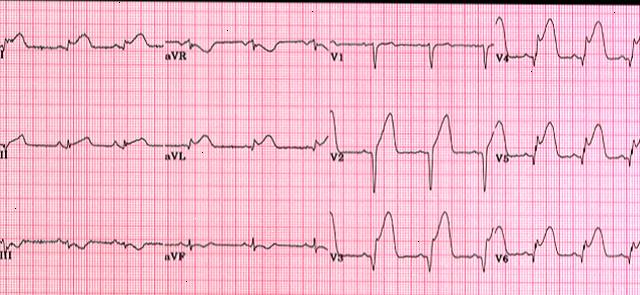Lead_I: (0, 22, 166, 69)
Lead_II: (0, 121, 165, 172)
Lead_III: (1, 226, 166, 266)
Lead_V1: (329, 28, 496, 77)
Lead_V2: (326, 102, 494, 195)
Lead_V3: (326, 198, 494, 282)
Lead_V4: (493, 8, 640, 76)
Lead_V5: (494, 108, 640, 181)
Lead_V6: (491, 211, 640, 283)
Lead_aVF: (165, 227, 330, 270)
Lead_aVL: (162, 122, 328, 168)
Lead_aVR: (166, 25, 328, 72)
